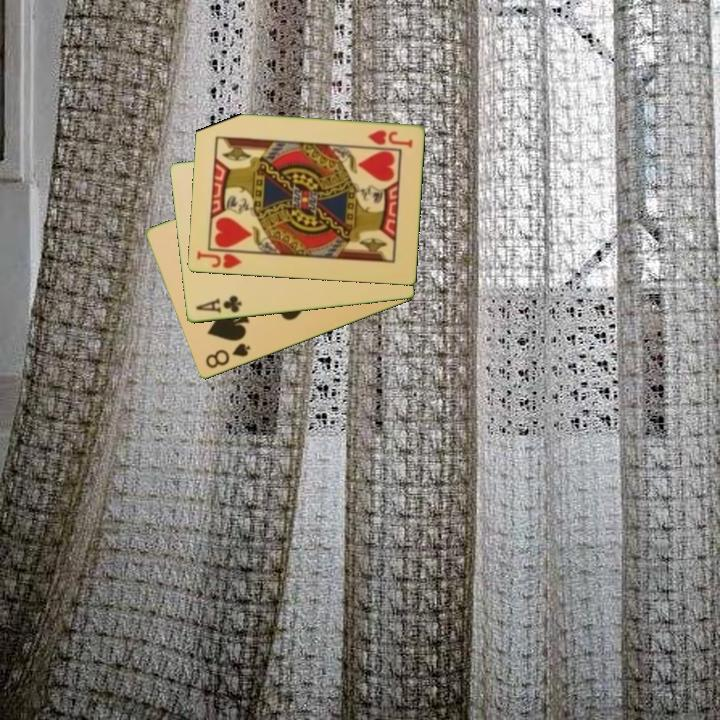8s: (202, 340, 253, 372)
Ac: (192, 292, 244, 317)
Jh: (193, 247, 250, 272), (364, 127, 415, 150)
